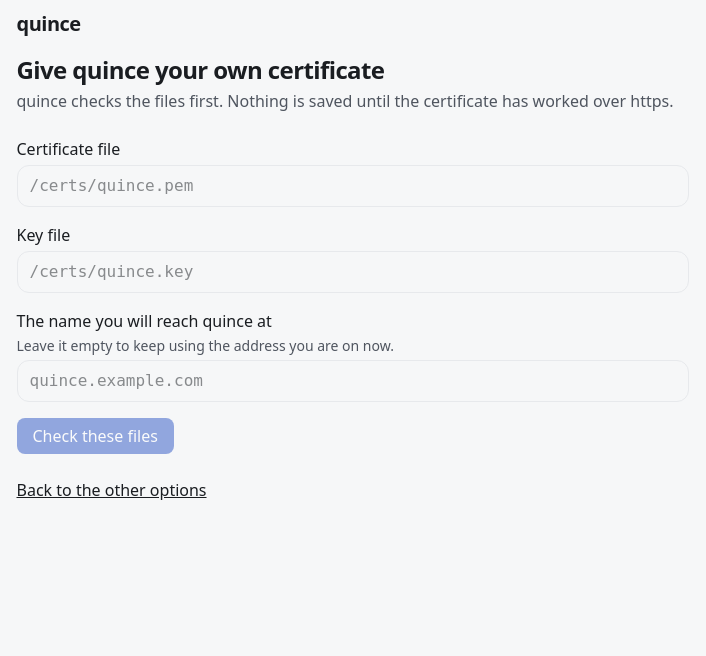
Scenario: the certificate step › shows the daemon's own reason rather than composing one
The width and height of the screenshot is (706, 656).
Type "/tls/fullchain.pem" into the field labelled "Certificate file" at (352, 186), box top-left (16, 165), bottom-right (688, 207)
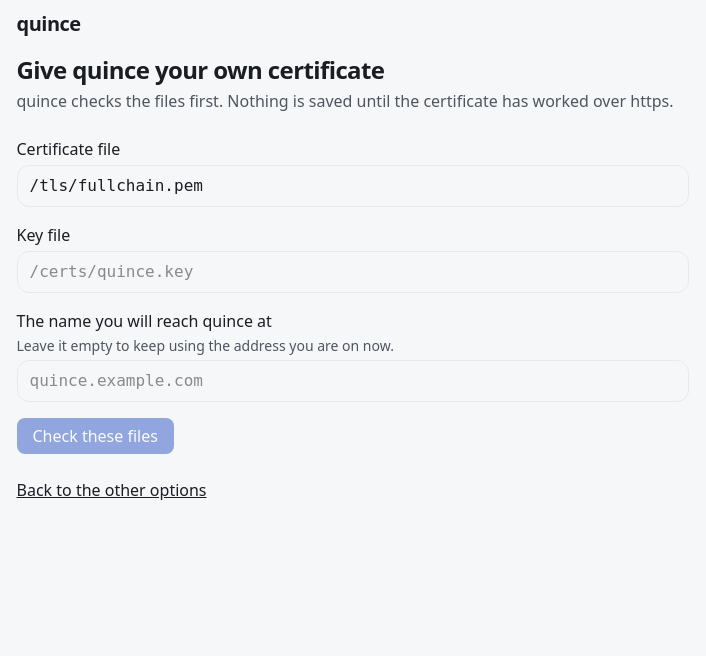
Type "/tls/privkey.pem" into the field labelled "Key file" at (352, 272), box top-left (16, 251), bottom-right (688, 293)
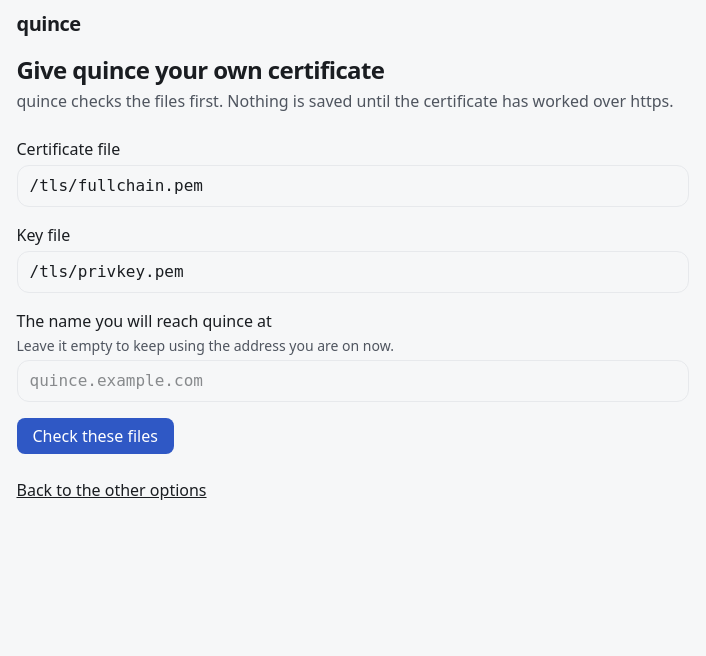
Click the button "Check these files" at (95, 436), box top-left (16, 418), bottom-right (174, 454)
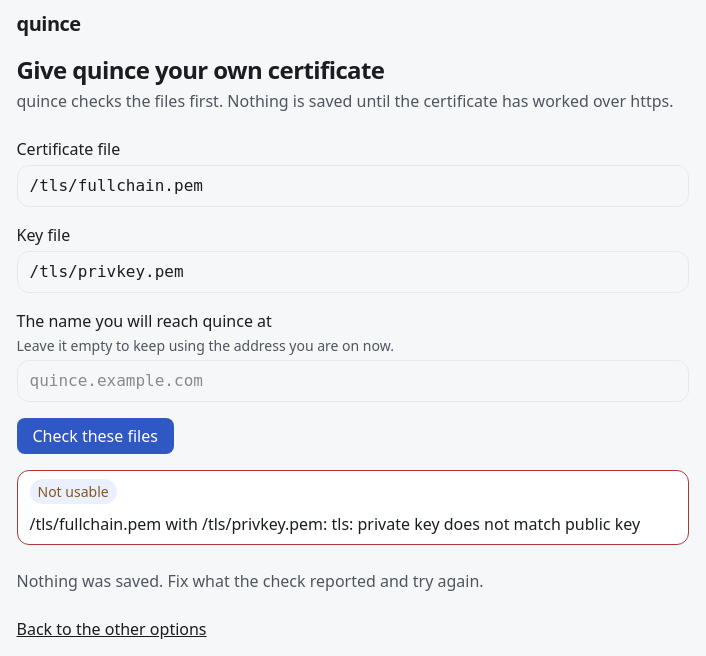
Expected: the text "private key does not match public key" is shown, top-left (30, 513), bottom-right (640, 535)
Expected: the text "Not usable" is shown, top-left (30, 479), bottom-right (117, 504)
